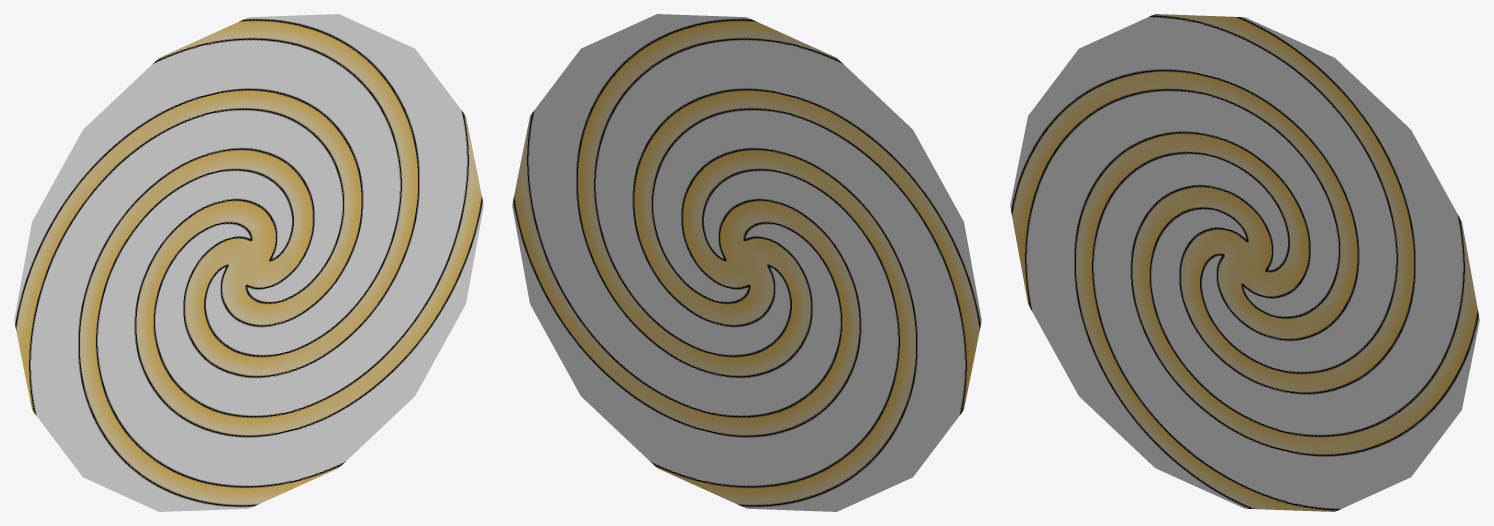
File: GoalPortal.obj
The picture shows the model from 3 angles, left to right: view 1: azimuth 30°, elevation 25°; view 2: azimuth 150°, elevation 25°; view 3: azimuth 330°, elevation 25°; orthographic projection.
Visible parts, largest first — view 1: 円; view 2: 円; view 3: 円.
Part boxes in pixels (x1=…): 円: x1=14, y1=14, x2=483, y2=511; 円: x1=512, y1=14, x2=981, y2=511; 円: x1=1010, y1=14, x2=1479, y2=511.
Size of the model in its own units: 2 by 2 by 0.
1 material, 1 textured.
